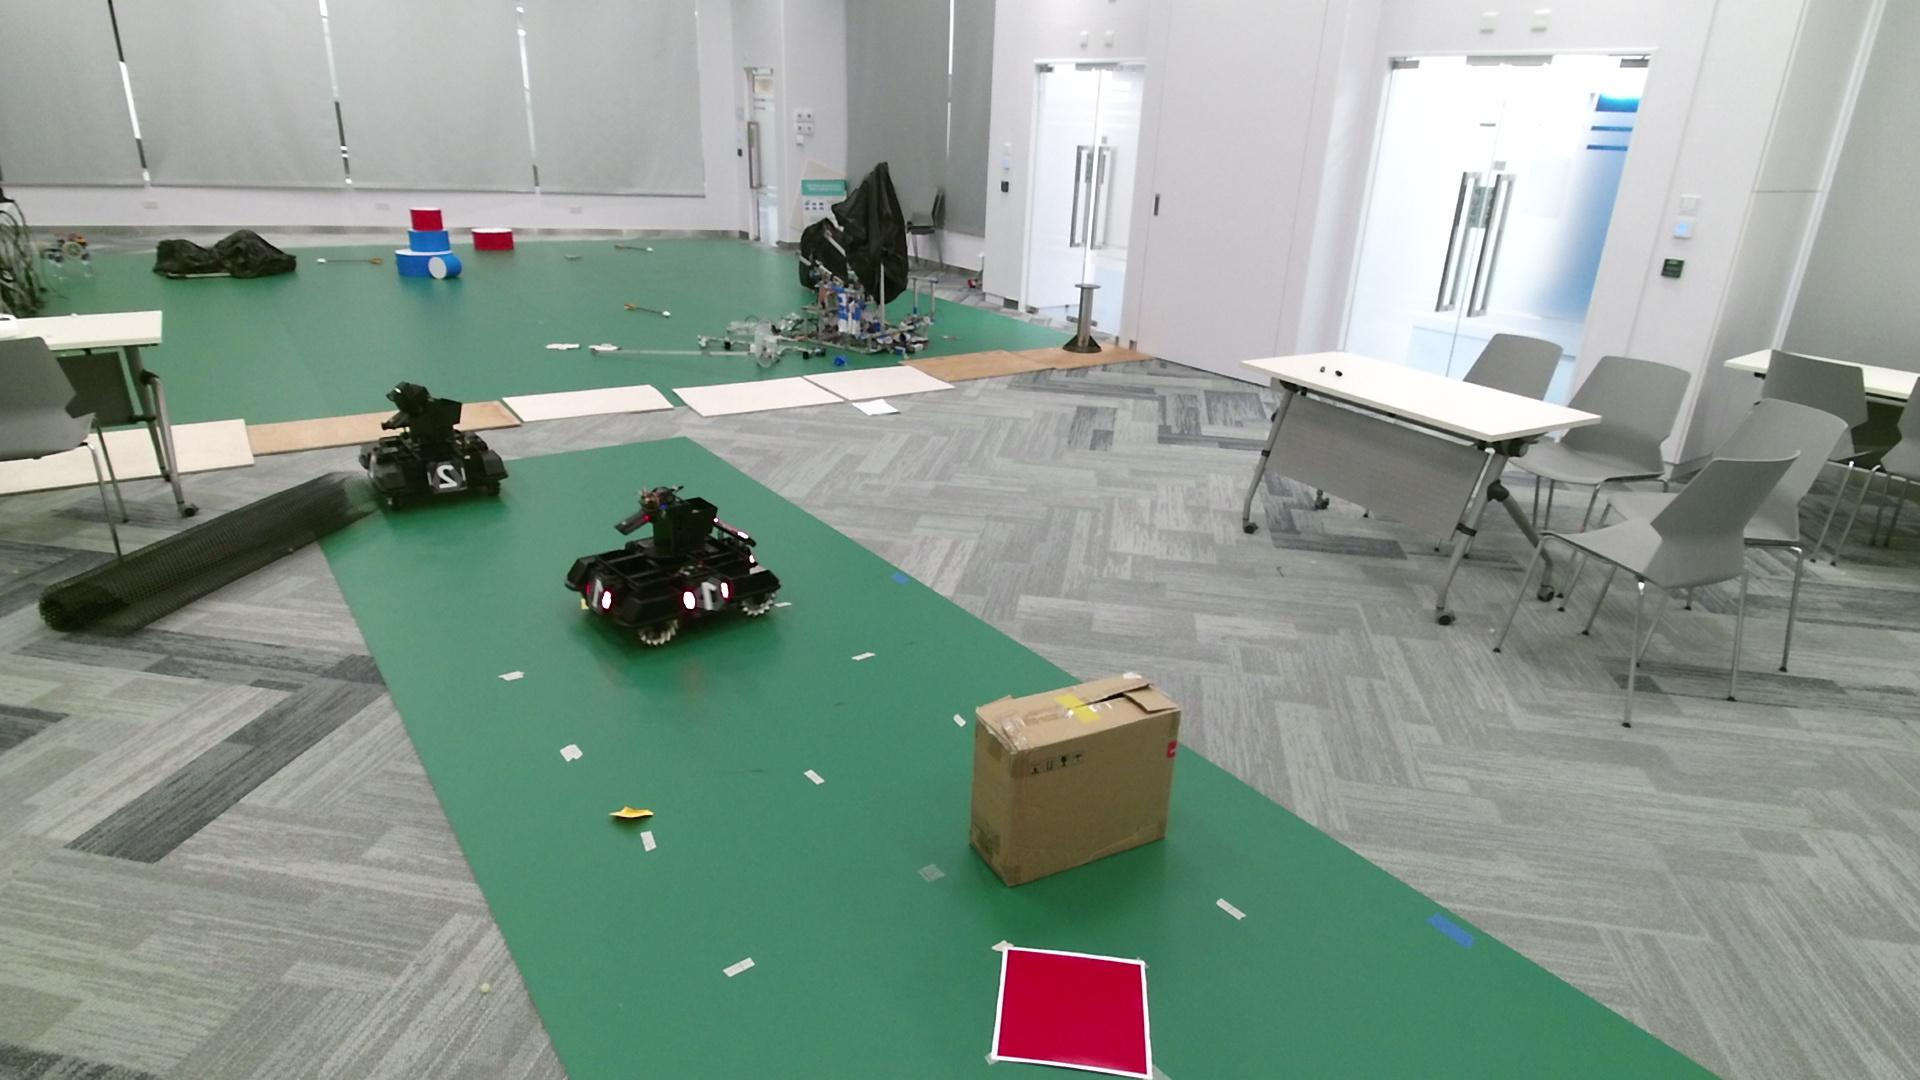robot: (562, 483, 783, 647), (357, 380, 509, 510)
